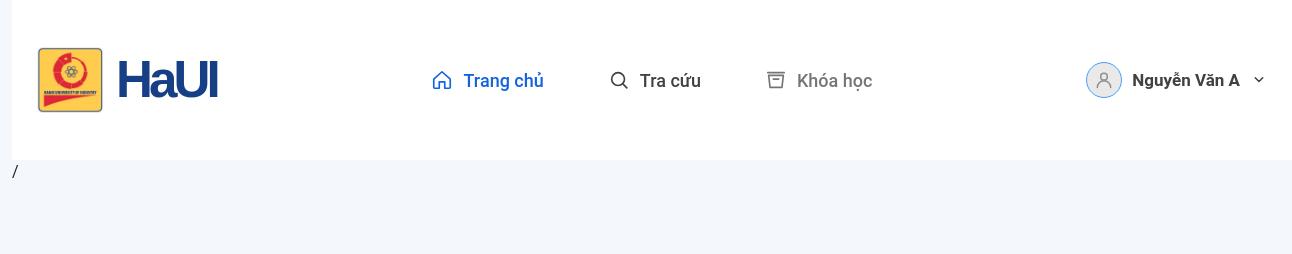
Test: MainHeader › opens the account menu and navigates to the profile
Click the button with class "account-trigger". click: point(1177, 80)
box: [1086,56,1268,104]
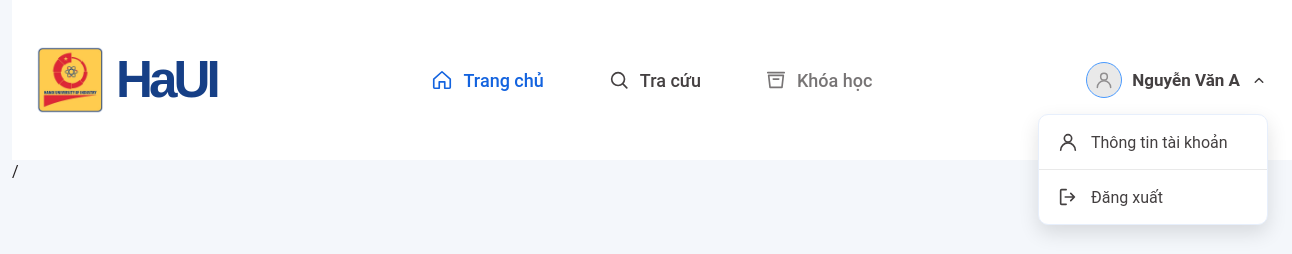
Expected: the button with class "account-trigger" is expanded, [1086,56,1268,104]
Click the menu item "Thông tin tài khoản". click: point(1153, 142)
box: [1039,115,1267,169]
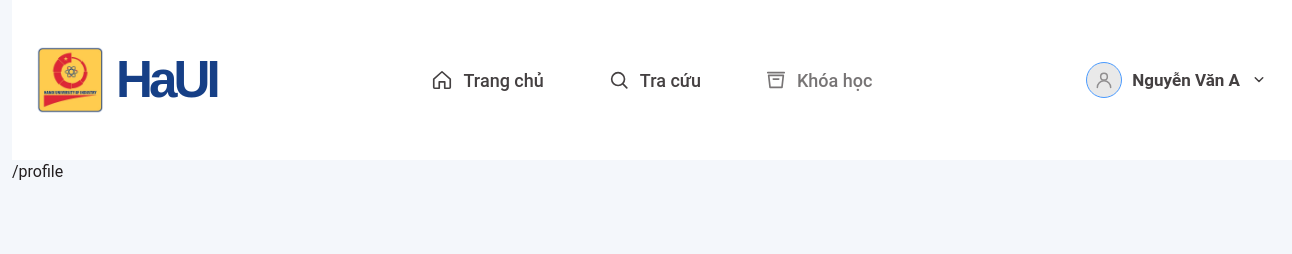
Expected: the text with test id "location" reads "/profile", [12,162,63,181]
